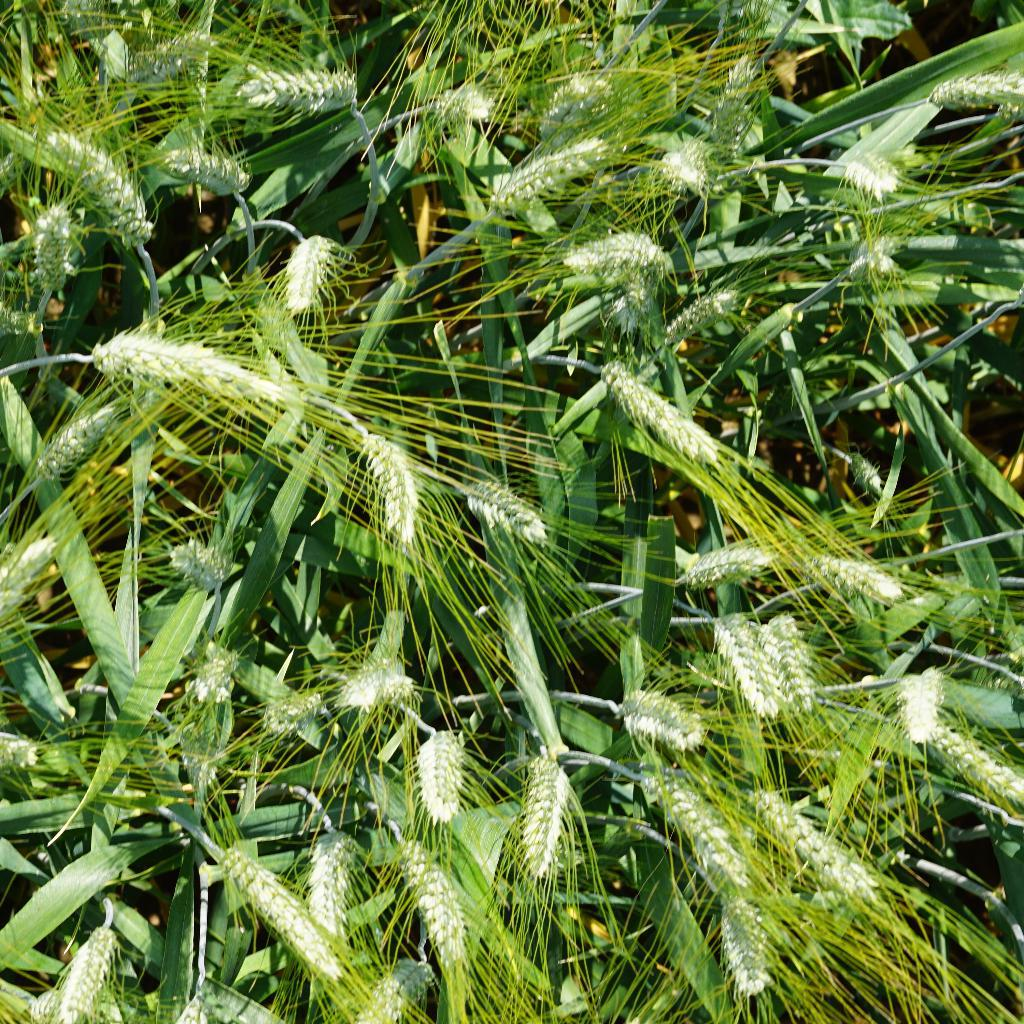0-0: (210, 830, 340, 993), (759, 781, 904, 903), (82, 332, 284, 415), (34, 123, 160, 256), (583, 359, 727, 466), (641, 772, 755, 896), (686, 26, 762, 191), (384, 836, 473, 968), (22, 911, 123, 1024), (789, 535, 916, 623), (223, 52, 366, 129), (350, 419, 432, 550), (922, 720, 1024, 821), (507, 742, 579, 885), (14, 395, 120, 489), (707, 890, 796, 999), (481, 134, 610, 204), (0, 531, 68, 658), (705, 617, 781, 729), (417, 717, 485, 838), (641, 280, 751, 353), (303, 813, 363, 940), (768, 604, 829, 728), (154, 142, 266, 208), (610, 687, 714, 758), (277, 225, 352, 323), (557, 216, 675, 277), (907, 60, 1024, 118), (463, 473, 555, 545), (660, 526, 778, 580), (336, 651, 426, 717), (537, 66, 620, 137), (346, 959, 434, 1024), (21, 202, 82, 292), (892, 666, 948, 759), (137, 22, 213, 89), (175, 628, 232, 714), (415, 75, 505, 126), (164, 538, 240, 598), (264, 673, 331, 739), (647, 137, 709, 202), (829, 444, 893, 505), (55, 0, 120, 60), (854, 221, 912, 286), (830, 150, 899, 200), (0, 718, 47, 784)
